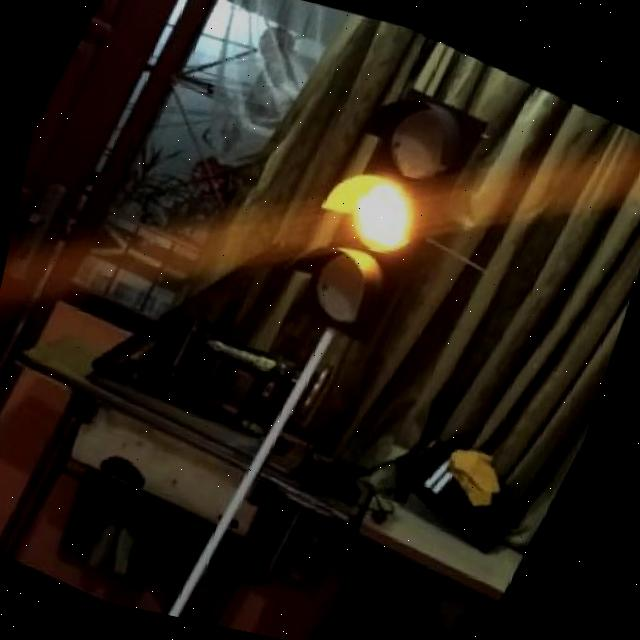yellow_light: (274, 62, 496, 357)
